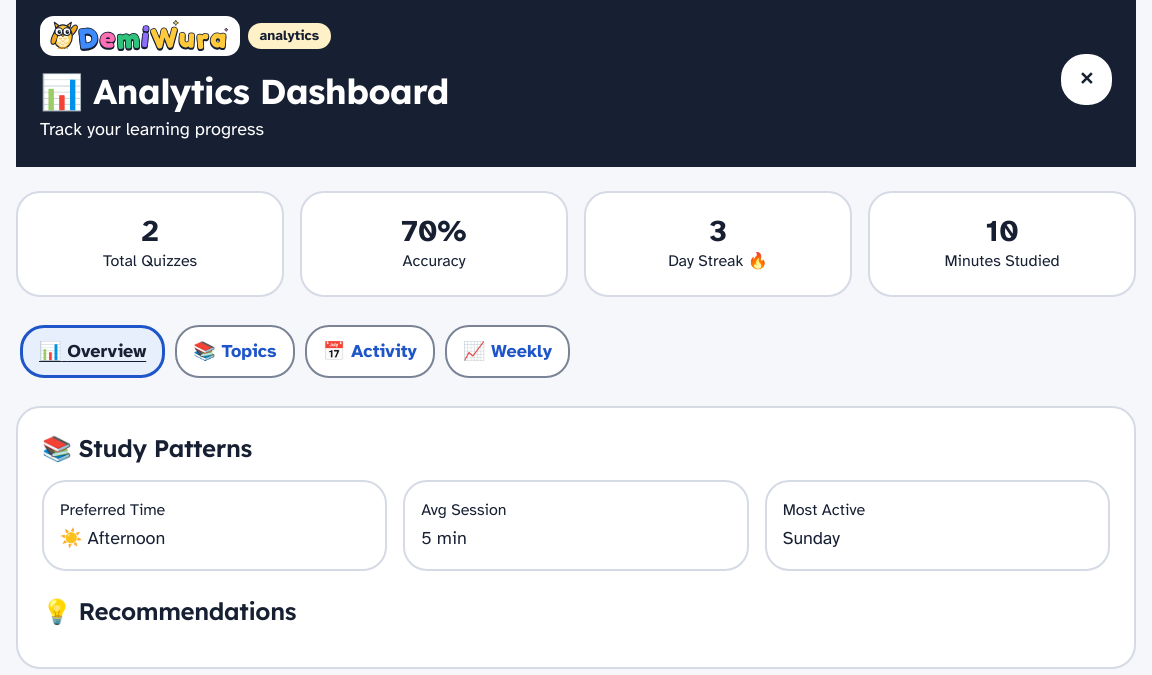
Test: Clear Path administration preserves existing behavior › exposes exactly the existing daily values in a table and adds non-colour activity signals
Step 1. Click the button "📅 Activity" → (370, 352), box [305,325,435,378]
(page scrolled)
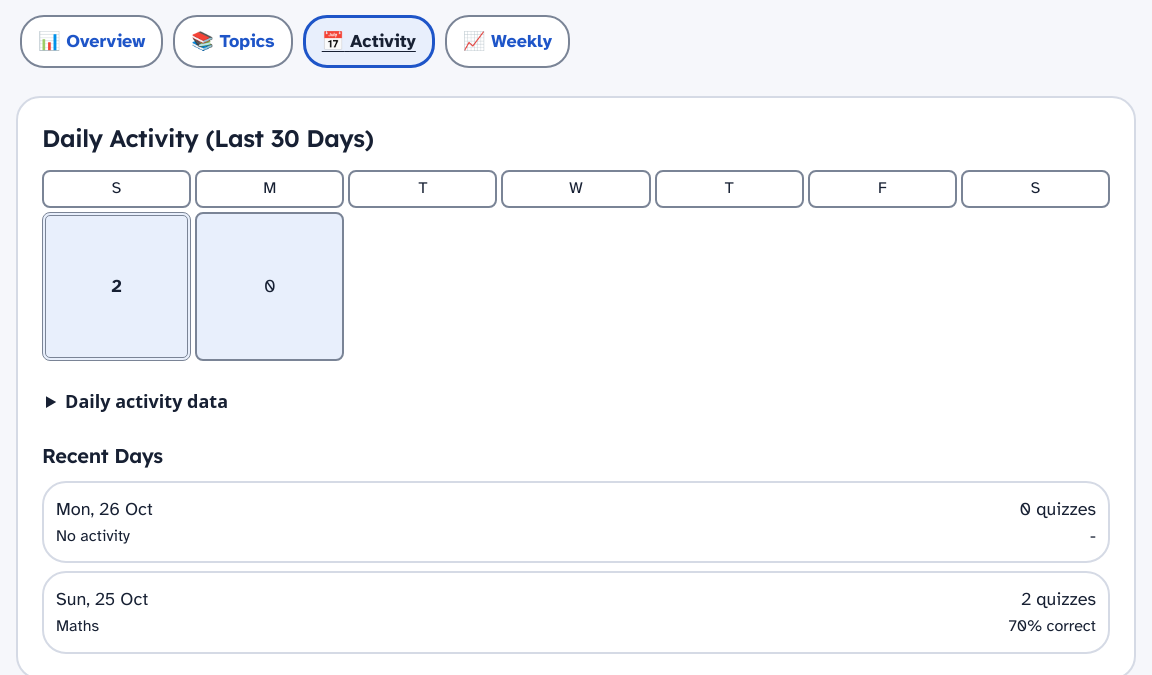
Now the picture named "2026-10-25: 2 quizzes" is shown, box [42,212,191,361]
Step 2. Click the heading "Daily activity data" → (147, 401), box [65,389,228,413]
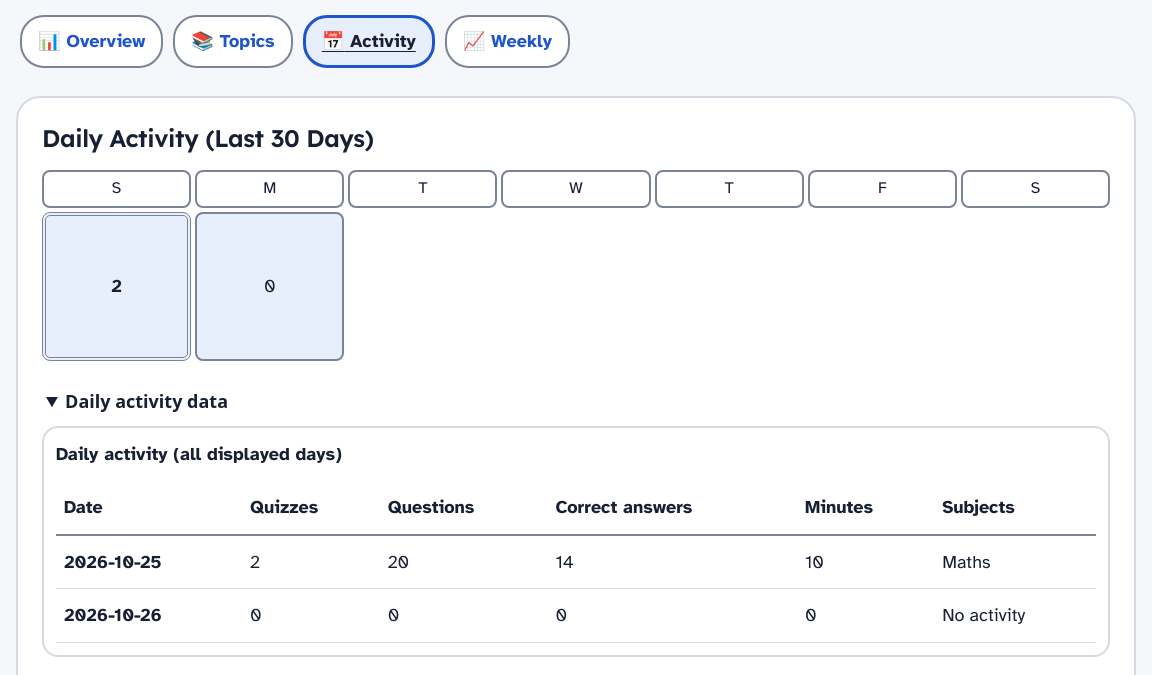
Now the row "2026-10-25 2 20 14 10 Maths" is shown, box [56,535,1096,589]
Now the row "2026-10-26 0 0 0 0 No activity" is shown, box [56,589,1096,643]
Step 3. Click the button "📈 Weekly" → (507, 42), box [445,15,570,68]
(page scrolled)
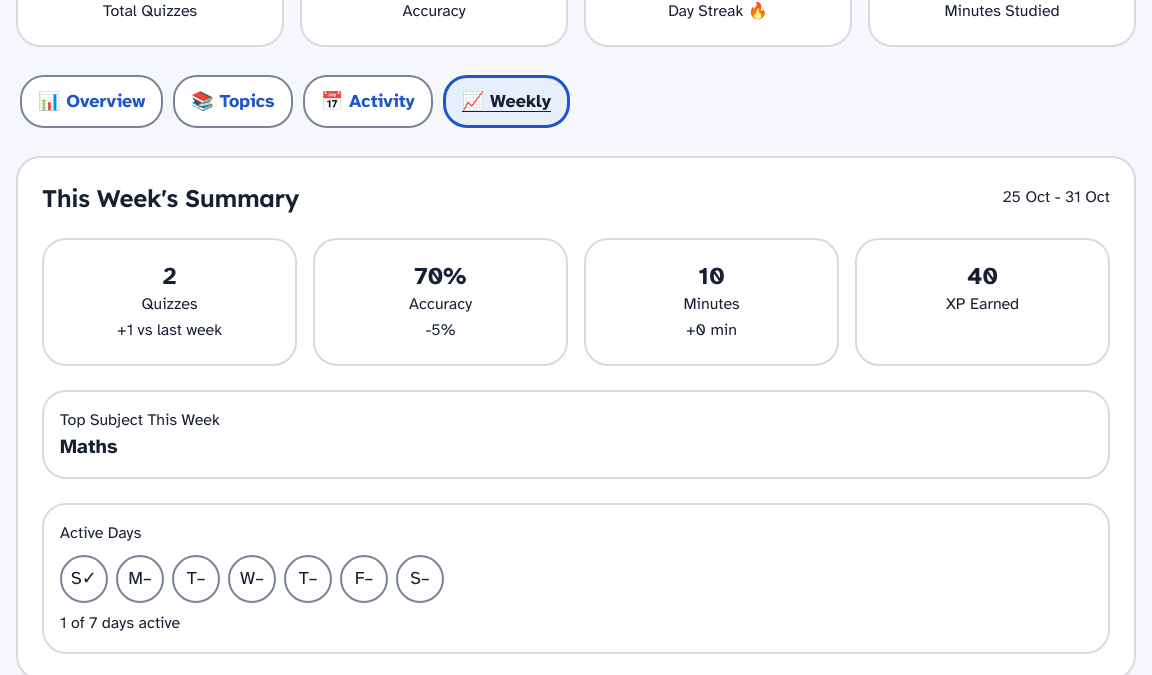
Step 4. Click the button "📚 Topics" → (233, 102), box [173,75,293,128]
(page scrolled)
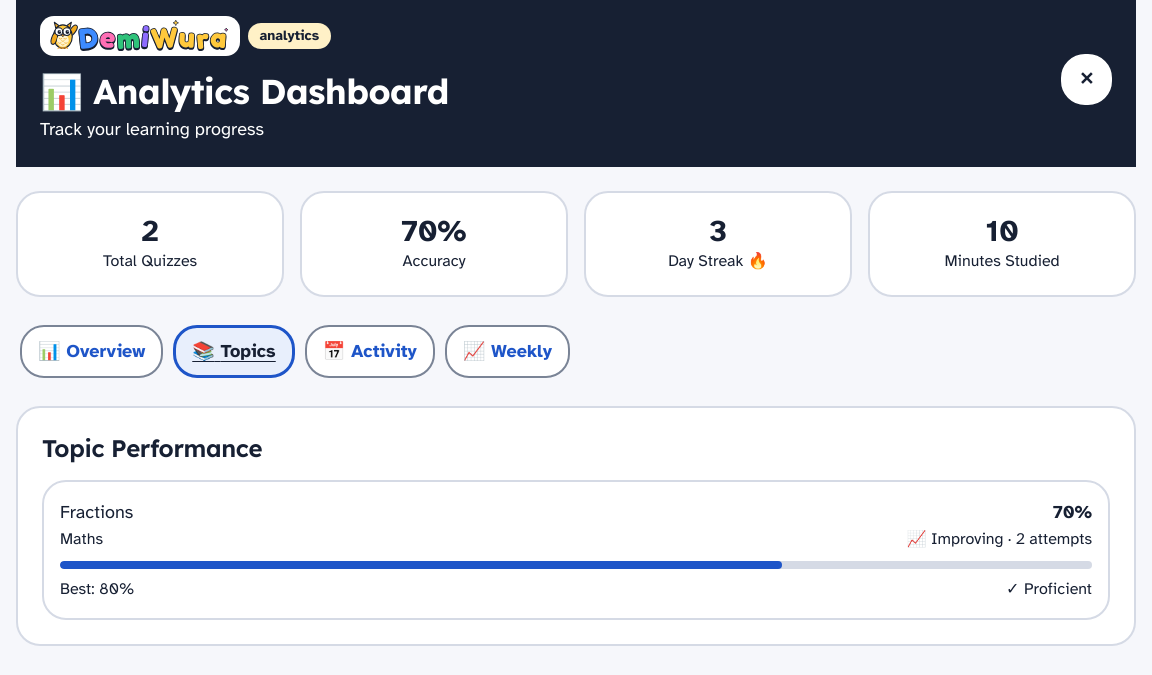
Now the text "improving" is shown, box [931,529,1003,549]
Now the text "proficient" is shown, box [1024,579,1092,599]
